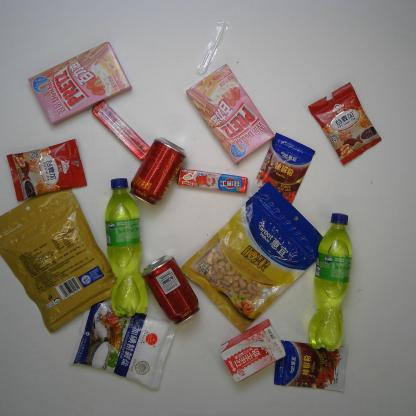Candy: (91, 100, 152, 162), (177, 168, 248, 194)
Dessert: (185, 63, 276, 165), (27, 41, 132, 126)
Dried Fruit: (180, 180, 326, 334), (0, 187, 119, 334)
Drink: (306, 212, 354, 353), (104, 177, 149, 318), (140, 254, 200, 326), (128, 136, 188, 207)
Instant Drink: (308, 81, 382, 166), (6, 138, 87, 202)
Milk: (219, 319, 287, 385)
Seasoner: (67, 297, 177, 390), (247, 132, 316, 205), (274, 339, 350, 393)
